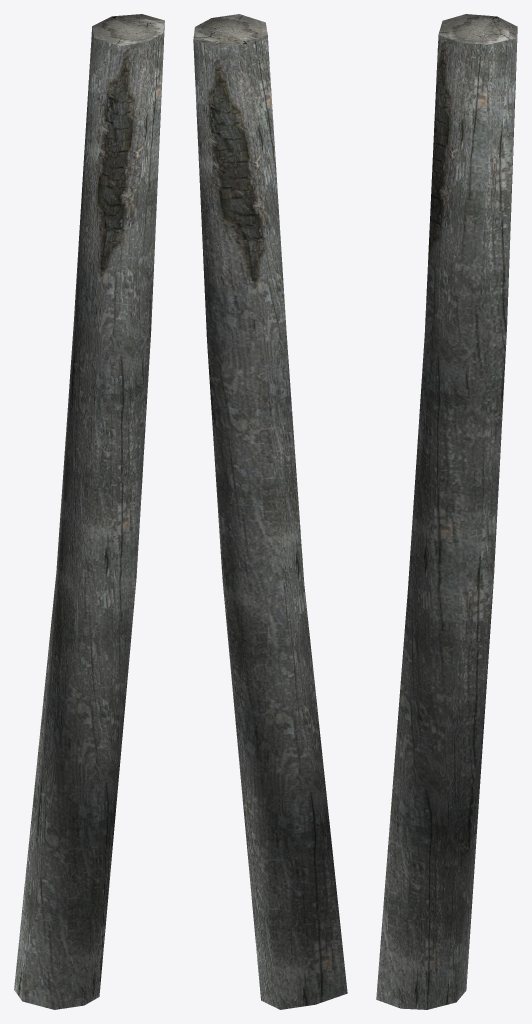
The model's file is prop_wood_debris_big_burnt_01.glb.
3 renders of one model, left to right at view 1: azimuth 30°, elevation 25°; view 2: azimuth 210°, elevation 25°; view 3: azimuth 330°, elevation 25°, orthographic. The views are drawn at different scales.
Bounding box in the file's own units: 28.34 × 187 × 14.33.
Materials: 3 (3 with a texture image).
